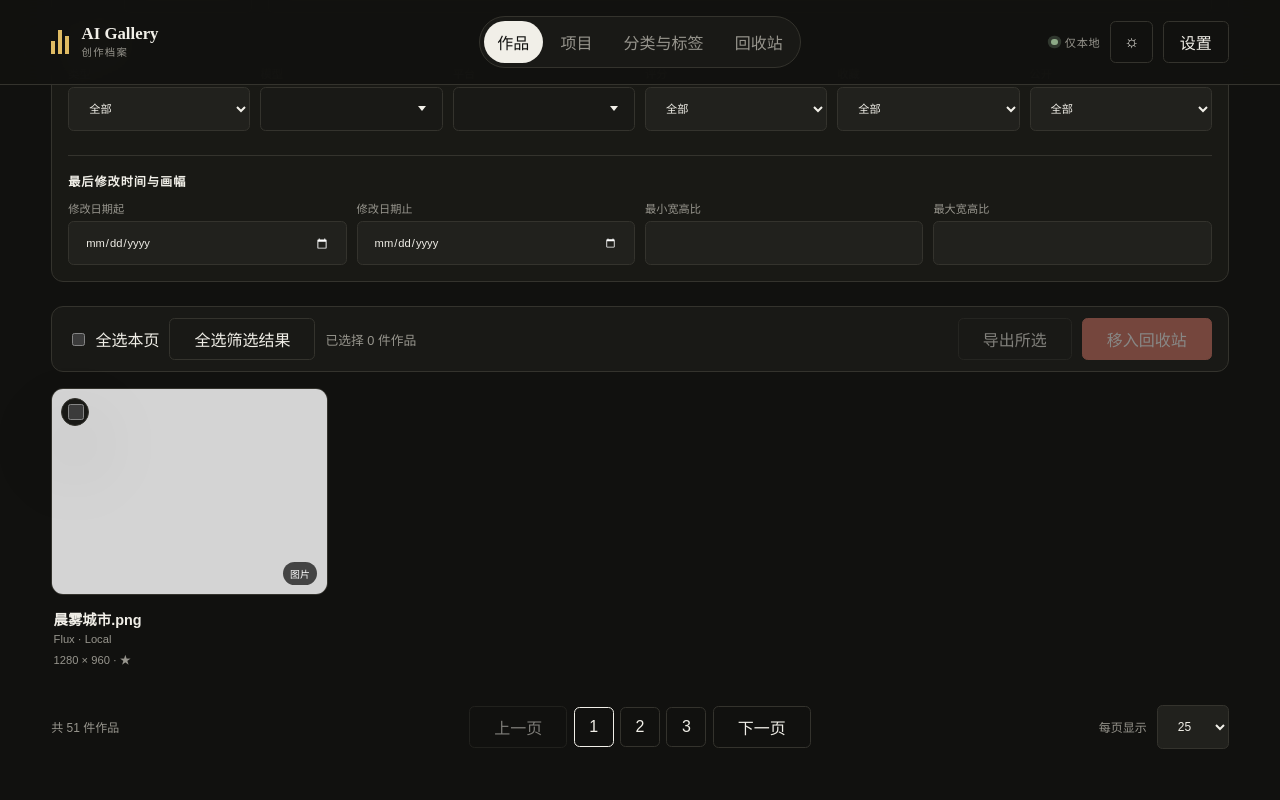
Scenario: M2 作品库页面 › 数据变化导致当前页越界时自动回到最后一个有效页
(page scrolled)
Step 1. Click the button named "第 3 页" → [686, 727], box [666,707,706,747]
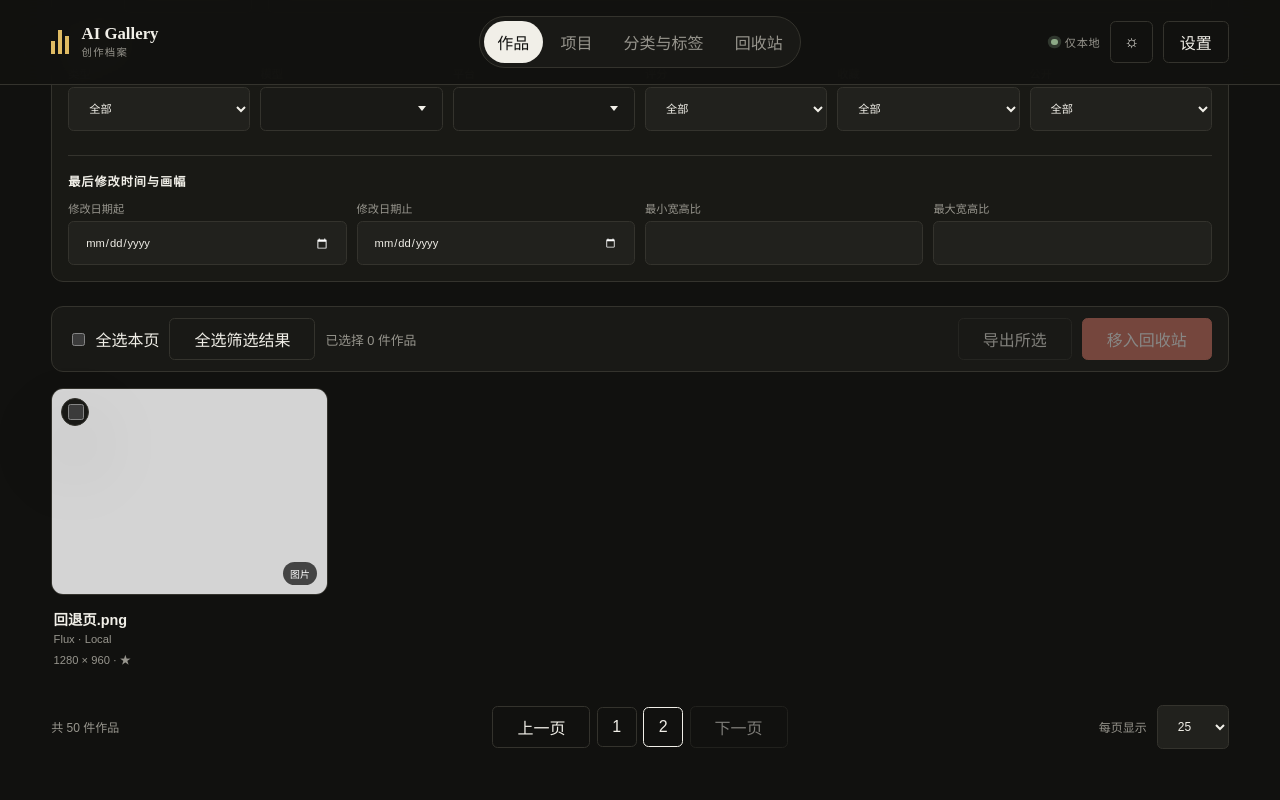
Expected: the heading "回退页.png" is shown, [54,612,127,628]
